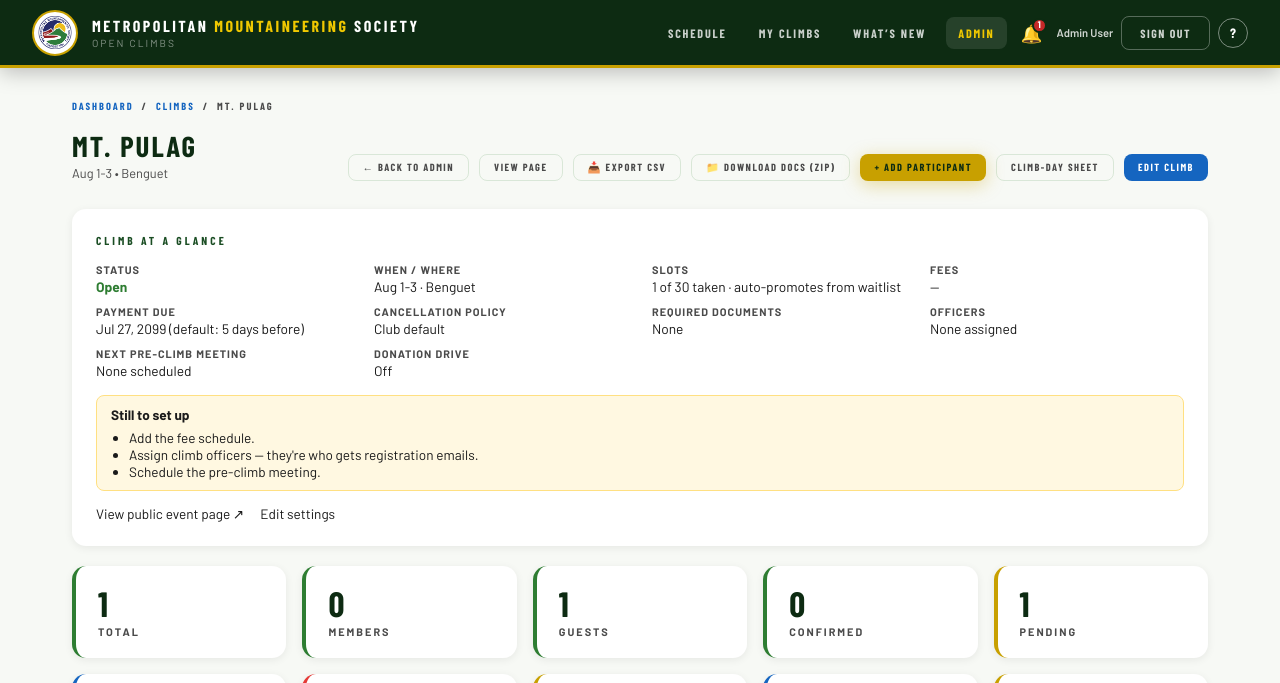
Test: Admin ClimbDetail › still refuses a participant with no name
What coordinates should you click on to do the following:
click the button "+ Add Participant"
I would click on:
 (923, 167)
Its box is [860, 154, 986, 181].
(page scrolled)
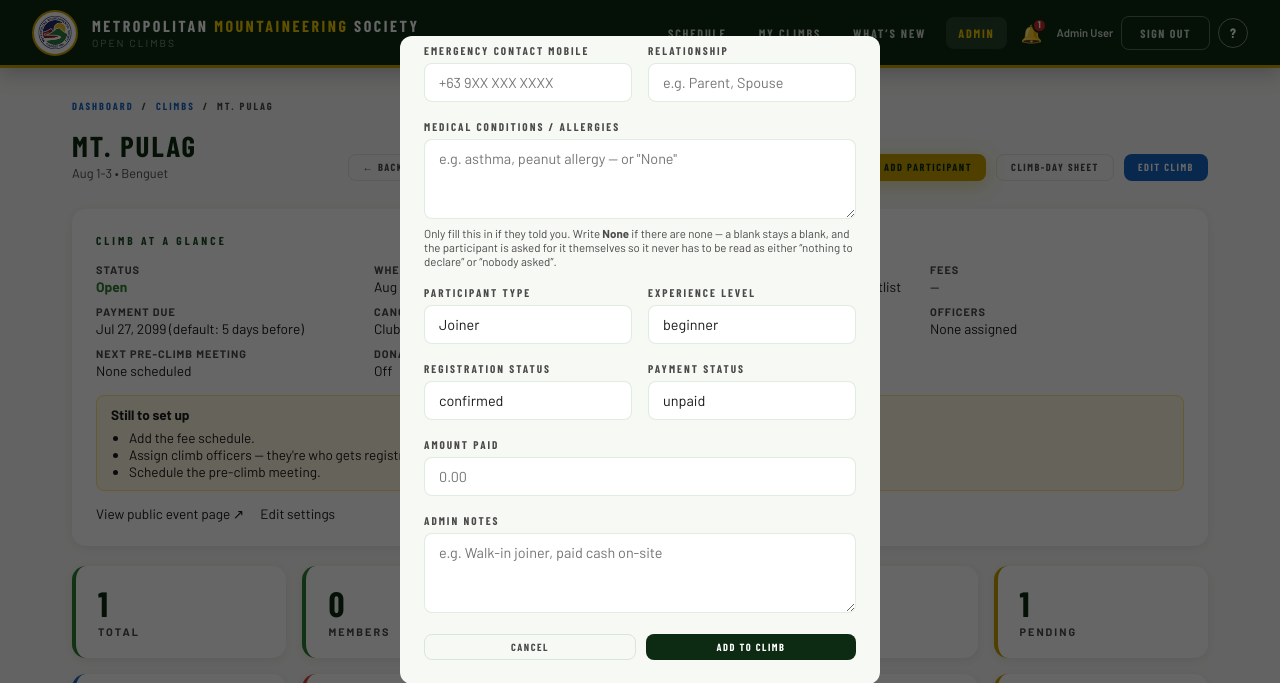
What coordinates should you click on to do the following:
click the button "Add to Climb"
I would click on:
 (751, 647)
Its box is [646, 634, 856, 660].
(page scrolled)
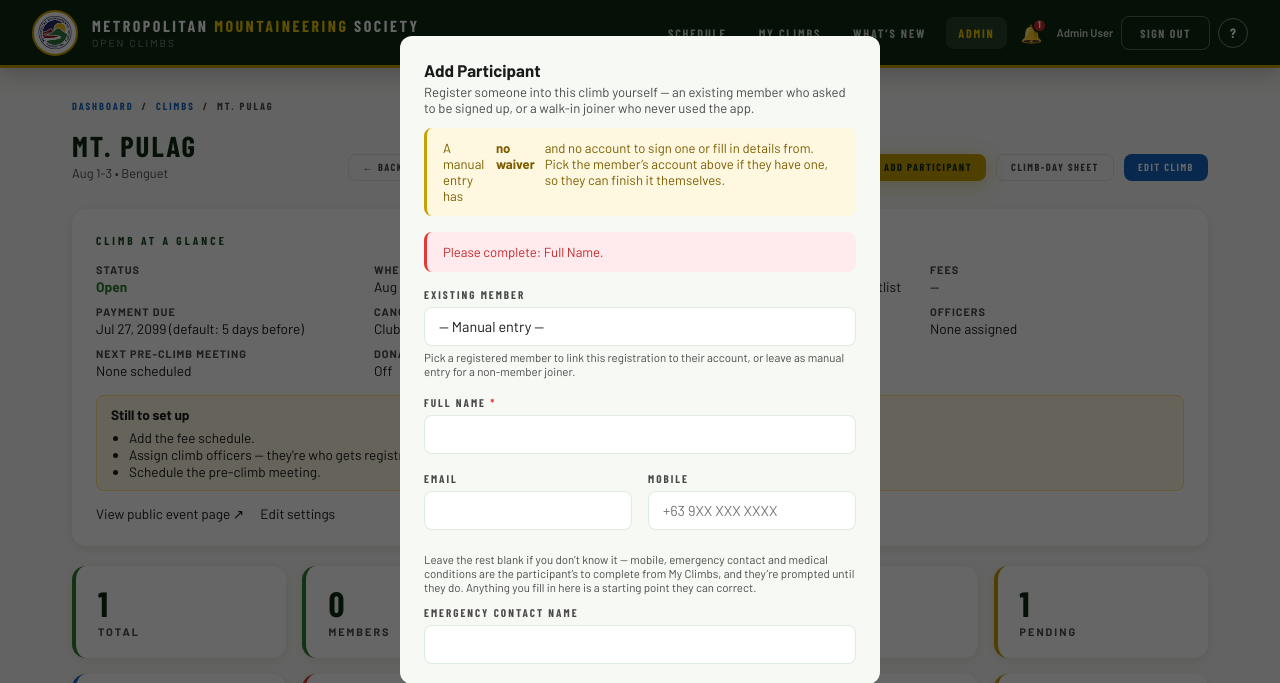
Result: the text "Please complete: Full Name." is shown at [424, 232, 856, 272]
